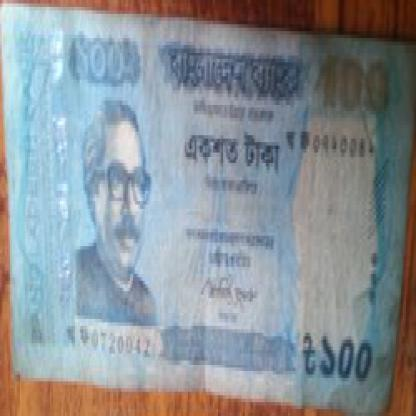one hundred taka: (318, 45, 391, 118), (68, 28, 141, 94), (320, 322, 381, 388)
